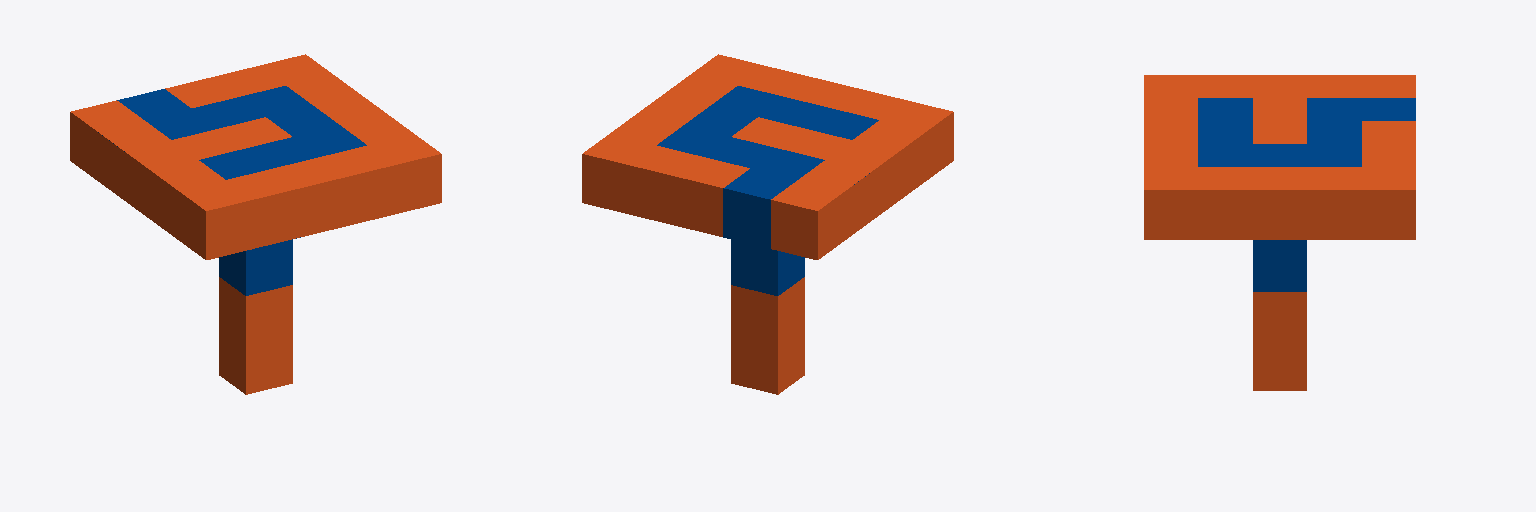
3 views of the same model, side by side, from view 1: azimuth 30°, elevation 25°; view 2: azimuth 150°, elevation 25°; view 3: azimuth 270°, elevation 25° (orthographic).
Parts seen in each view (by area): view 1: platform-blender-logo.001; view 2: platform-blender-logo.001; view 3: platform-blender-logo.001.
Part boxes in pixels (left/top/right/bottom): platform-blender-logo.001: left=70, top=54, right=441, bottom=394; platform-blender-logo.001: left=582, top=54, right=953, bottom=394; platform-blender-logo.001: left=1144, top=75, right=1415, bottom=390.
Bounding box in the file's own units: 0.5 × 0.5 × 0.5.
1 materials, 1 textured.